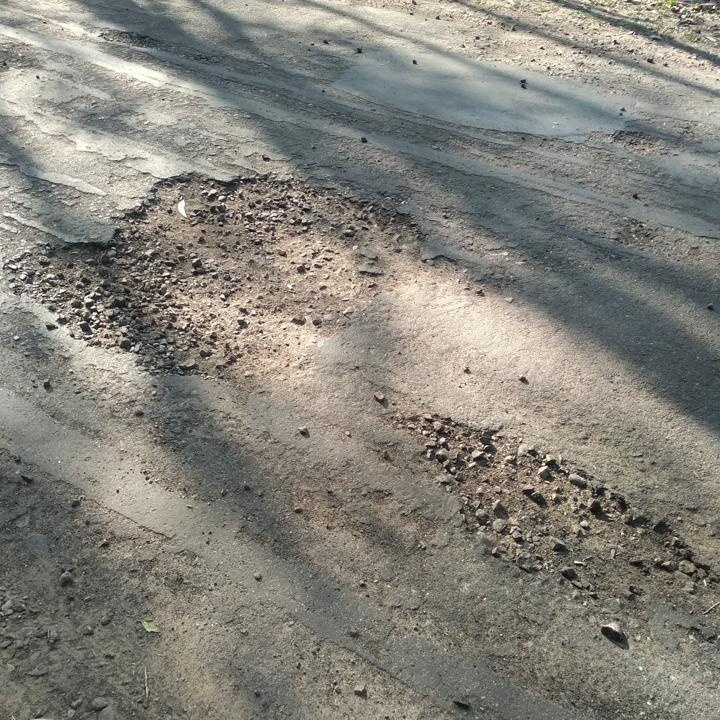pothole: (5, 165, 447, 383), (394, 411, 720, 607)
